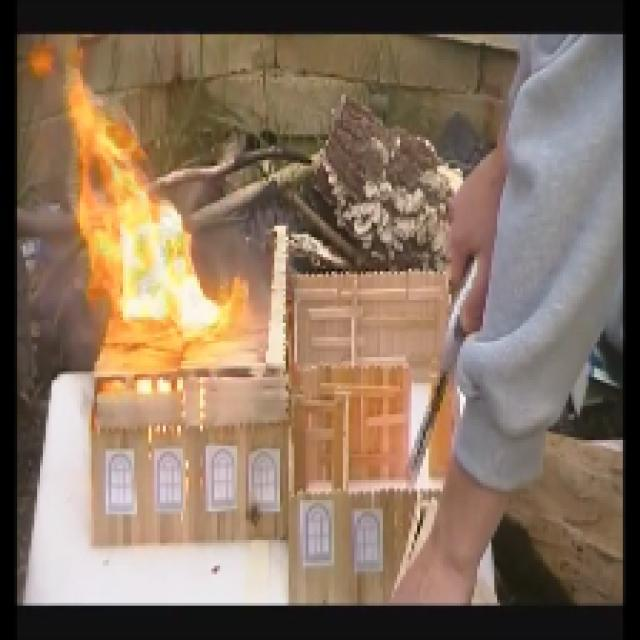Fire: (56, 70, 224, 346)
